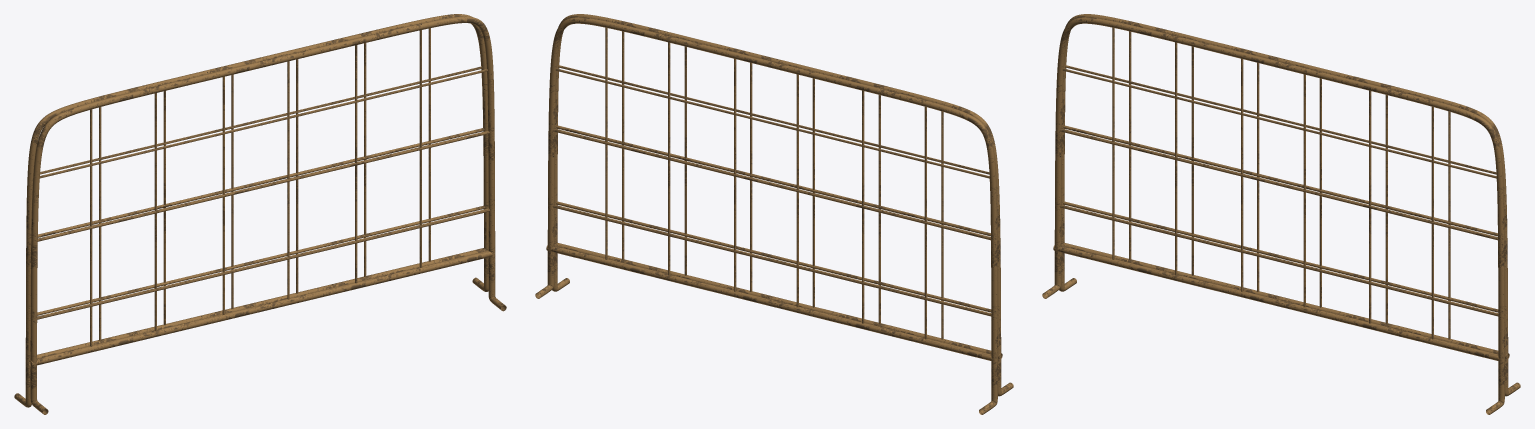
The model's file is RaoSat.fbx.
3 renders of one model, left to right at view 1: azimuth 30°, elevation 25°; view 2: azimuth 150°, elevation 25°; view 3: azimuth 330°, elevation 25°, orthographic. The views are drawn at different scales.
Parts seen in each view (by area): view 1: barrier.005; view 2: barrier.005; view 3: barrier.005.
Boxes of the visible parts, <box> form: barrier.005: <box>14,14,506,414</box>; barrier.005: <box>535,14,1013,414</box>; barrier.005: <box>1042,14,1520,414</box>.
Bounding box in the file's own units: 217 × 133 × 25.67.
Materials: 1 (1 with a texture image).
